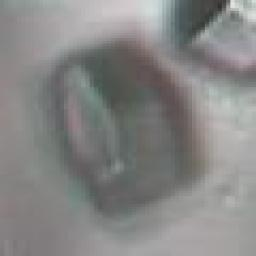crystals: (36, 31, 211, 232)
